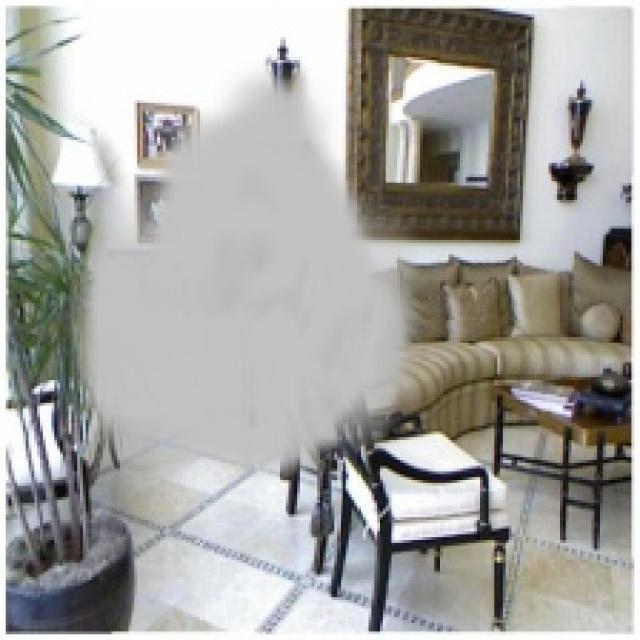smoke: (69, 63, 432, 486)
